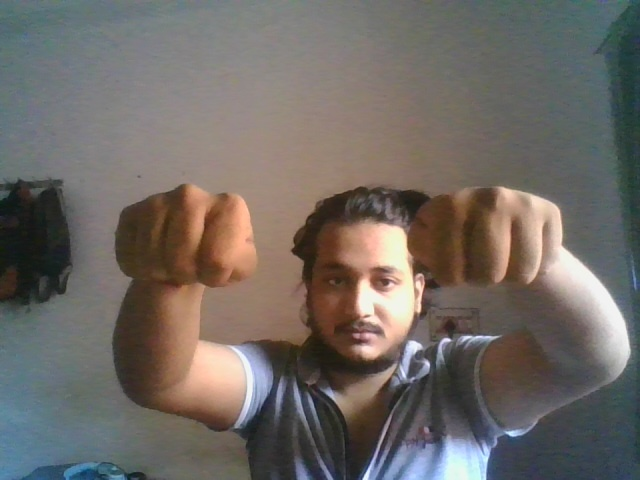Close: (408, 185, 566, 290), (113, 183, 259, 289)
